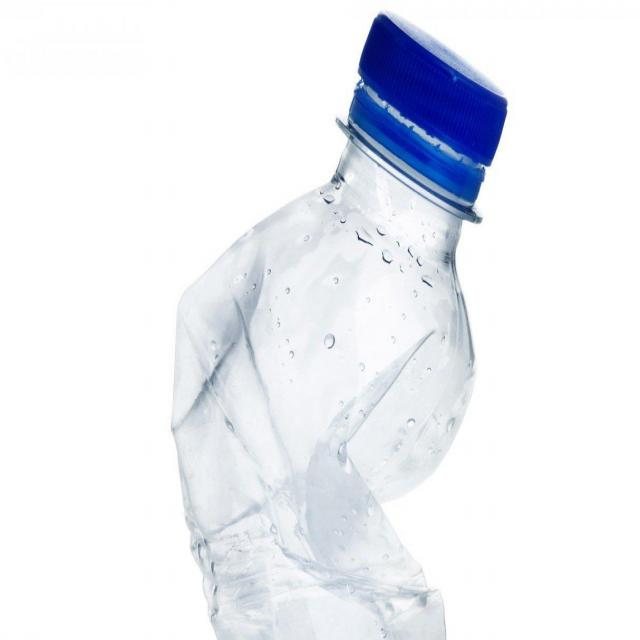plastic_bottle: (174, 12, 511, 640)
